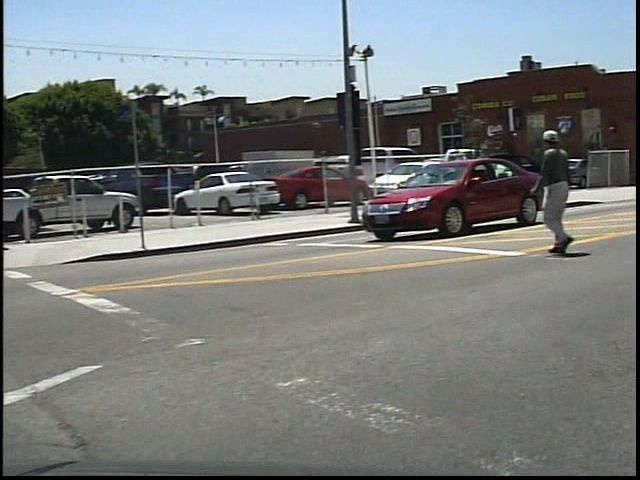person: (535, 116, 593, 261)
